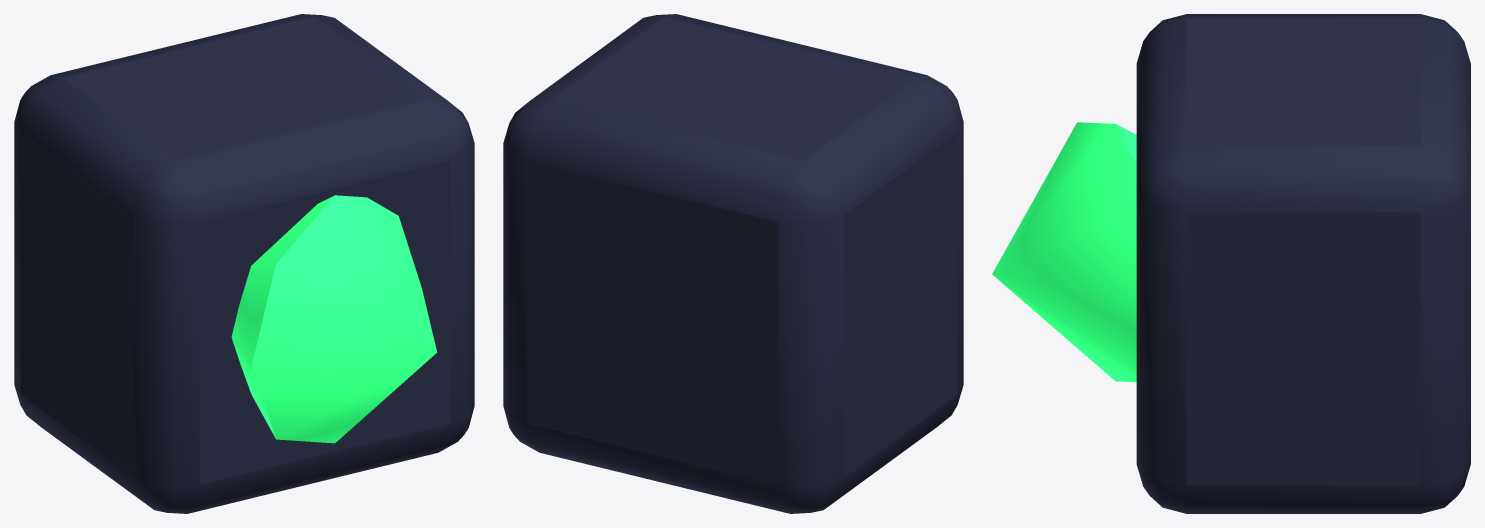
Rendered from drahokam_4.glb.
The picture shows the model from 3 angles, left to right: view 1: azimuth 30°, elevation 25°; view 2: azimuth 150°, elevation 25°; view 3: azimuth 270°, elevation 25°; orthographic projection. The views are drawn at different scales.
Parts seen in each view (by area): view 1: drahokam_3_luzko, drahokam_3_m; view 2: drahokam_3_luzko; view 3: drahokam_3_luzko, drahokam_3_m.
Boxes of the visible parts, bbox=[...] form: drahokam_3_luzko: bbox=[14, 14, 474, 513]; drahokam_3_m: bbox=[231, 195, 437, 443]; drahokam_3_luzko: bbox=[503, 14, 963, 513]; drahokam_3_luzko: bbox=[1136, 14, 1470, 513]; drahokam_3_m: bbox=[992, 122, 1136, 382].
Bounding box in the file's own units: 0.96 × 0.96 × 1.15.
